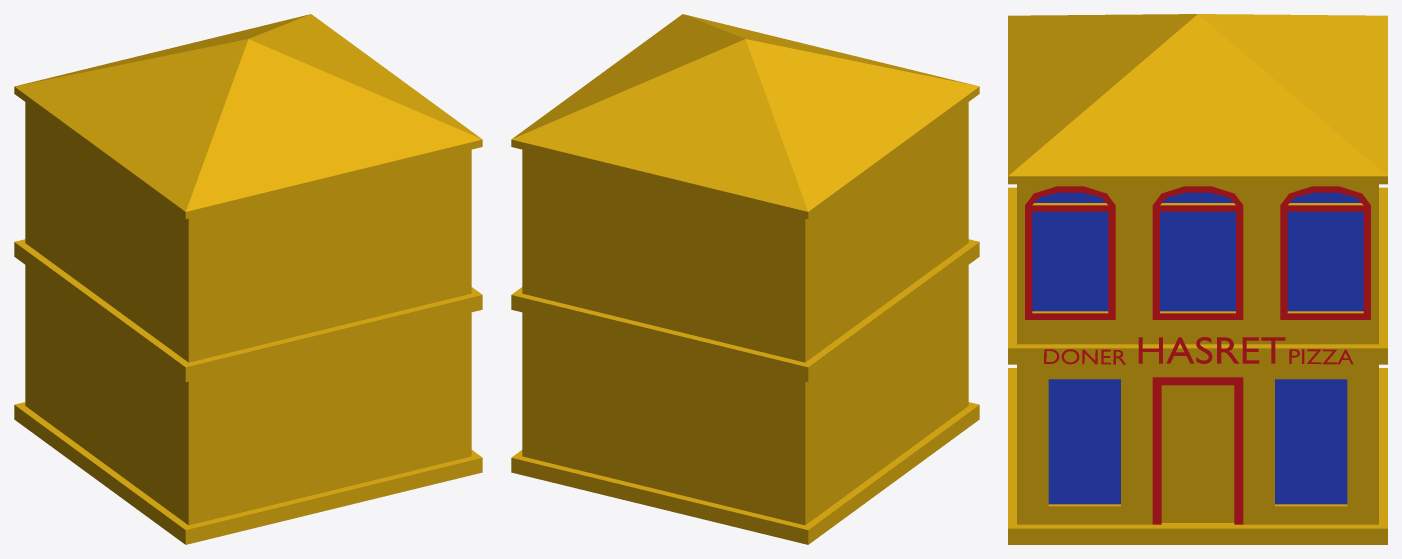
The model's file is Hasret.fbx.
The picture shows the model from 3 angles, left to right: view 1: azimuth 30°, elevation 25°; view 2: azimuth 150°, elevation 25°; view 3: azimuth 270°, elevation 25°; orthographic projection. The views are drawn at different scales.
Parts seen in each view (by area): view 1: walls up, walls bottom, building_001, building_001.001; view 2: walls up, walls bottom, building_001, building_001.001; view 3: building_001, walls bottom, Windows.top, walls up, Windows.bottom, Window.frames, Doors, building_001.001, Doors.frame, Window.arches, Hasret.Text, Doner.text (+1 smaller).
Part boxes in pixels (box(x1,y1,x2,y2)): walls up: box(25, 102, 471, 362); walls bottom: box(25, 265, 471, 525); building_001: box(14, 14, 482, 544); building_001.001: box(14, 239, 482, 381); walls up: box(522, 102, 968, 362); walls bottom: box(522, 265, 968, 525); building_001: box(511, 14, 979, 544); building_001.001: box(511, 239, 979, 381); building_001: box(1008, 14, 1387, 544); walls bottom: box(1017, 364, 1378, 524); Windows.top: box(1032, 211, 1363, 311); walls up: box(1017, 184, 1378, 344); Windows.bottom: box(1048, 379, 1347, 504); Window.frames: box(1025, 186, 1370, 319); Doors: box(1161, 385, 1234, 522); building_001.001: box(1008, 187, 1387, 364); Doors.frame: box(1152, 377, 1243, 524); Window.arches: box(1035, 192, 1360, 202); Hasret.Text: box(1138, 337, 1285, 363); Doner.text: box(1044, 349, 1125, 364).
Bounding box in the file's own units: 239 × 312 × 238.
